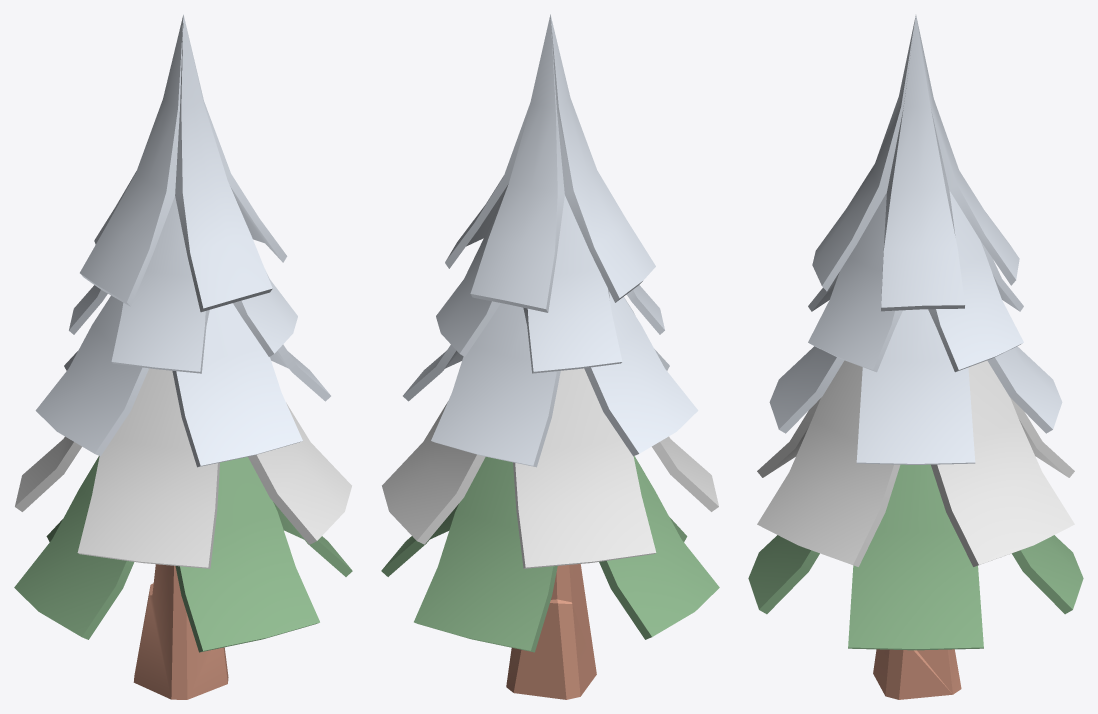
The model's file is Snow_Tree_01.fbx.
The picture shows the model from 3 angles, left to right: view 1: azimuth 30°, elevation 25°; view 2: azimuth 150°, elevation 25°; view 3: azimuth 270°, elevation 25°; orthographic projection.
Parts seen in each view (by area): view 1: Snow_Tree_01; view 2: Snow_Tree_01; view 3: Snow_Tree_01.
Boxes of the visible parts, <box> form: Snow_Tree_01: <box>14,14,352,699</box>; Snow_Tree_01: <box>381,14,719,699</box>; Snow_Tree_01: <box>748,15,1083,699</box>.
Size of the model in its own units: 3.07 by 6.74 by 3.07.
